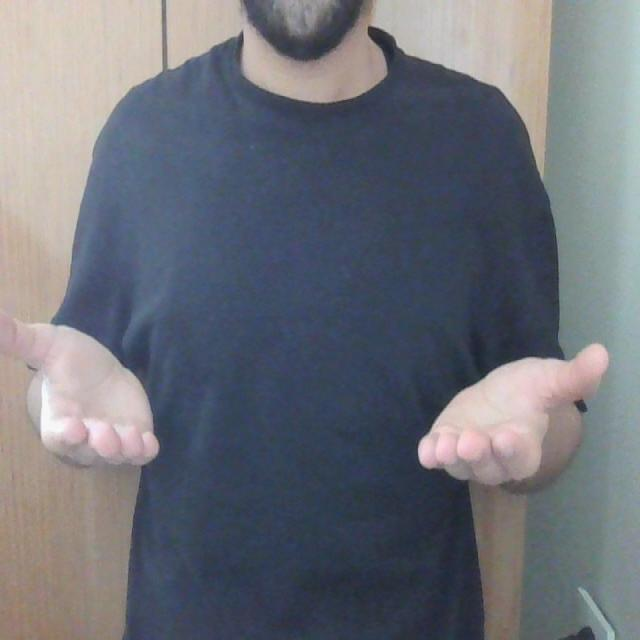Evet: (0, 307, 612, 496)
